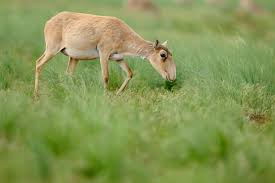saiga: (36, 10, 179, 110)
